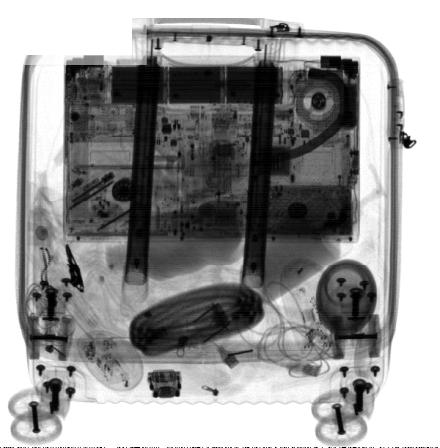Knife: (41, 287, 60, 354)
